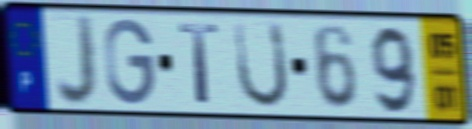6: (311, 22, 359, 113)
9: (367, 22, 419, 116)
G: (102, 16, 157, 109)
J: (54, 11, 99, 111)
T: (176, 21, 223, 107)
U: (232, 19, 291, 112)
